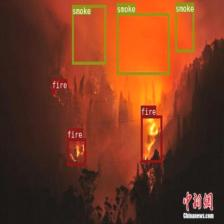fire: (140, 115, 162, 162), (67, 138, 86, 165), (51, 88, 55, 94)
smoke: (116, 12, 169, 74), (71, 5, 106, 64), (175, 2, 194, 52)
